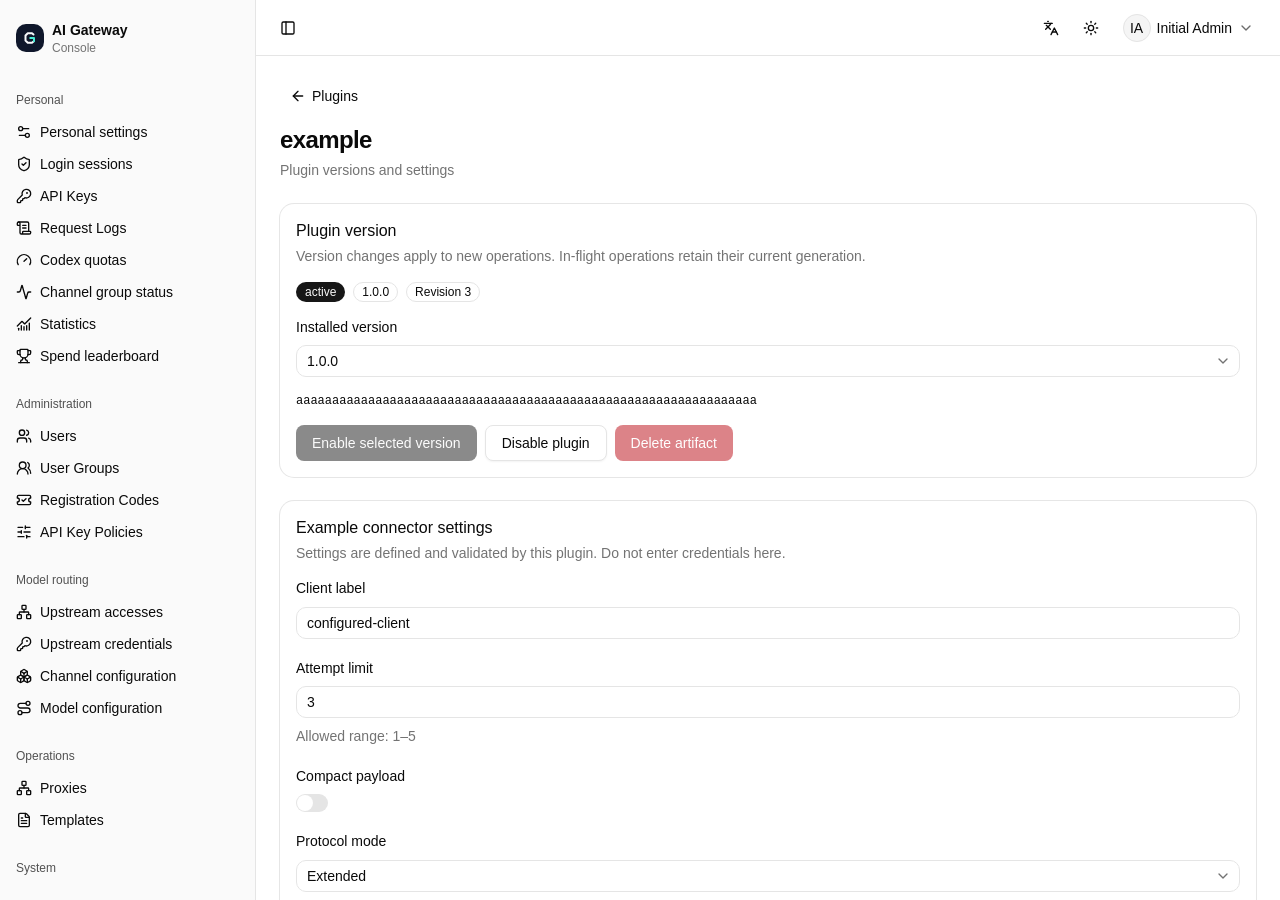
Test: Plugin management › renders a non-provider-specific descriptor and preserves seeded boolean and enum values
Check: the number field labelled "Attempt limit" holds "3", box [296, 686, 1240, 718]
Check: the switch named "Compact payload" is not checked, box [296, 794, 328, 812]
Replace the text in the field labelled "Client label" with "new-client": (768, 622) [296, 606, 1240, 638]
(page scrolled)
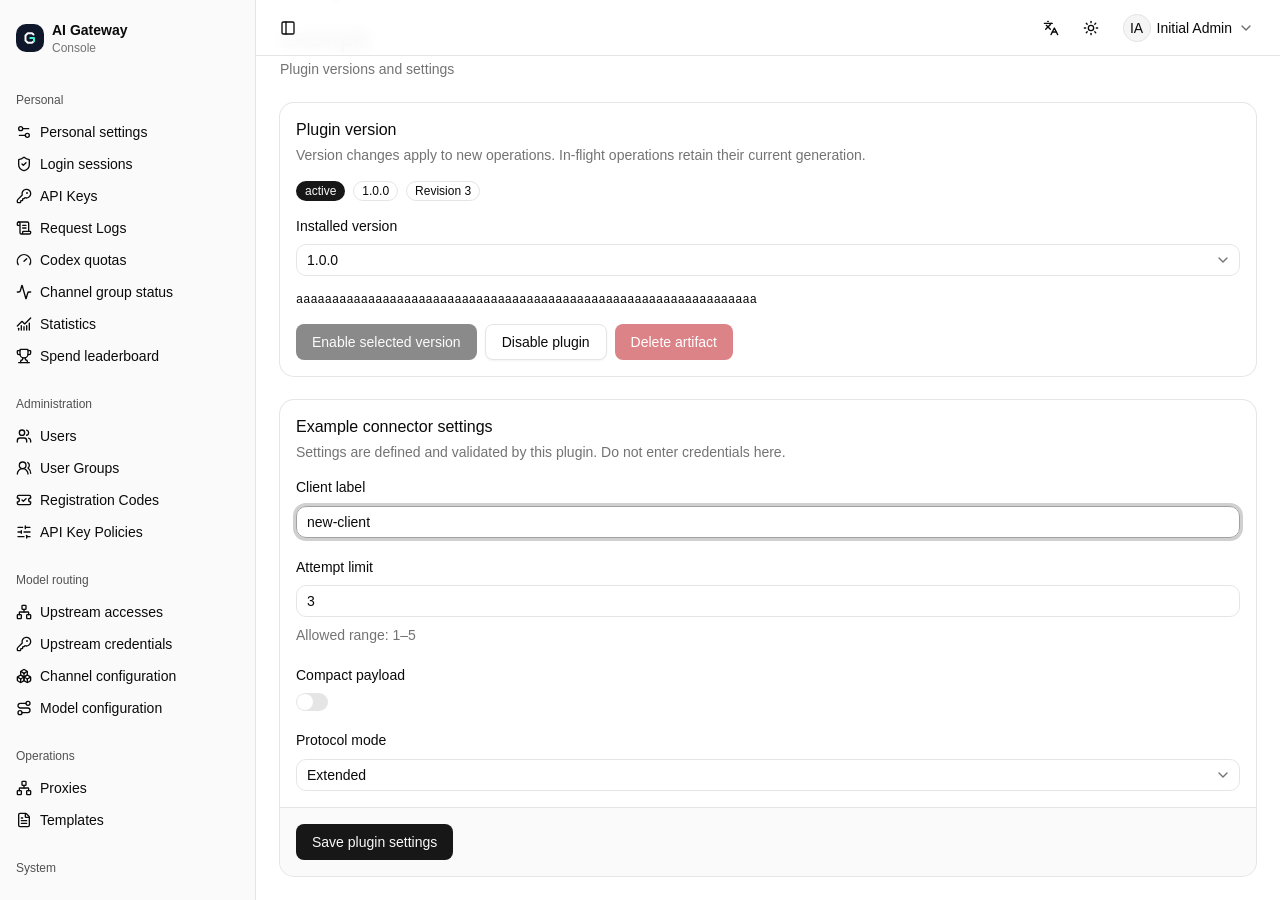
Click the button "Save plugin settings": (375, 842) [296, 824, 453, 860]
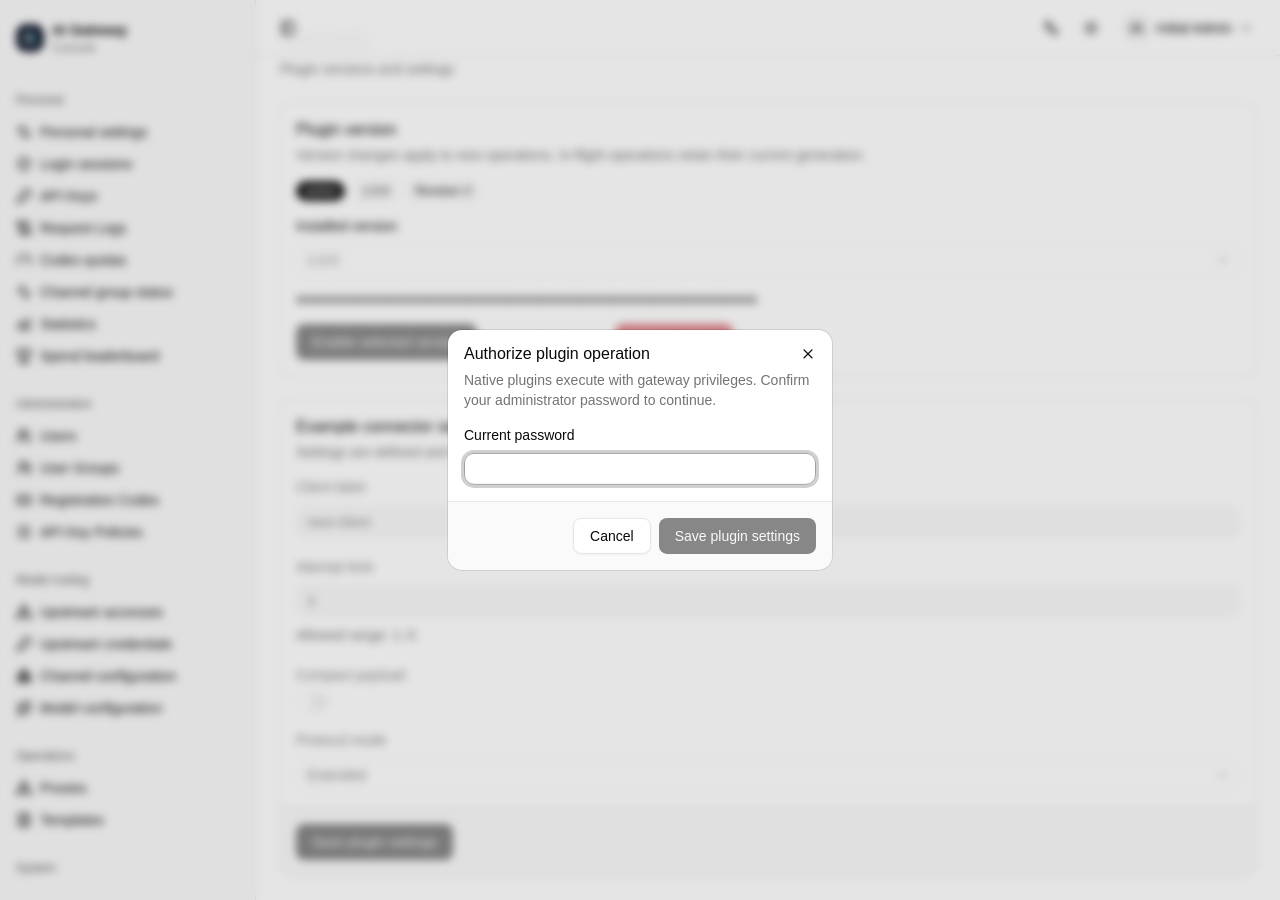
In the password field labelled "Current password": (640, 469) [464, 453, 816, 485], type "administrator-password"
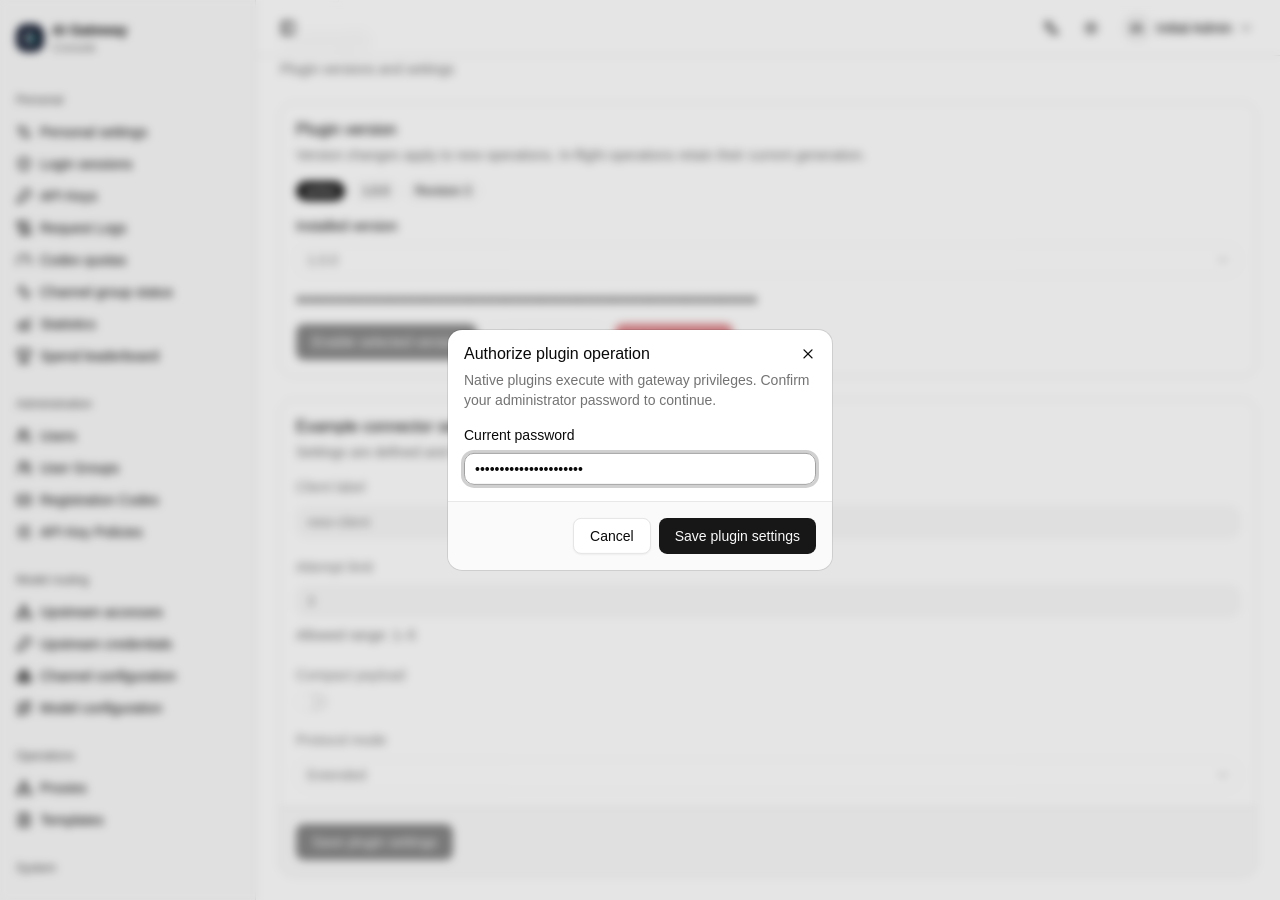
Click the button "Save plugin settings": (737, 536) [659, 518, 816, 554]
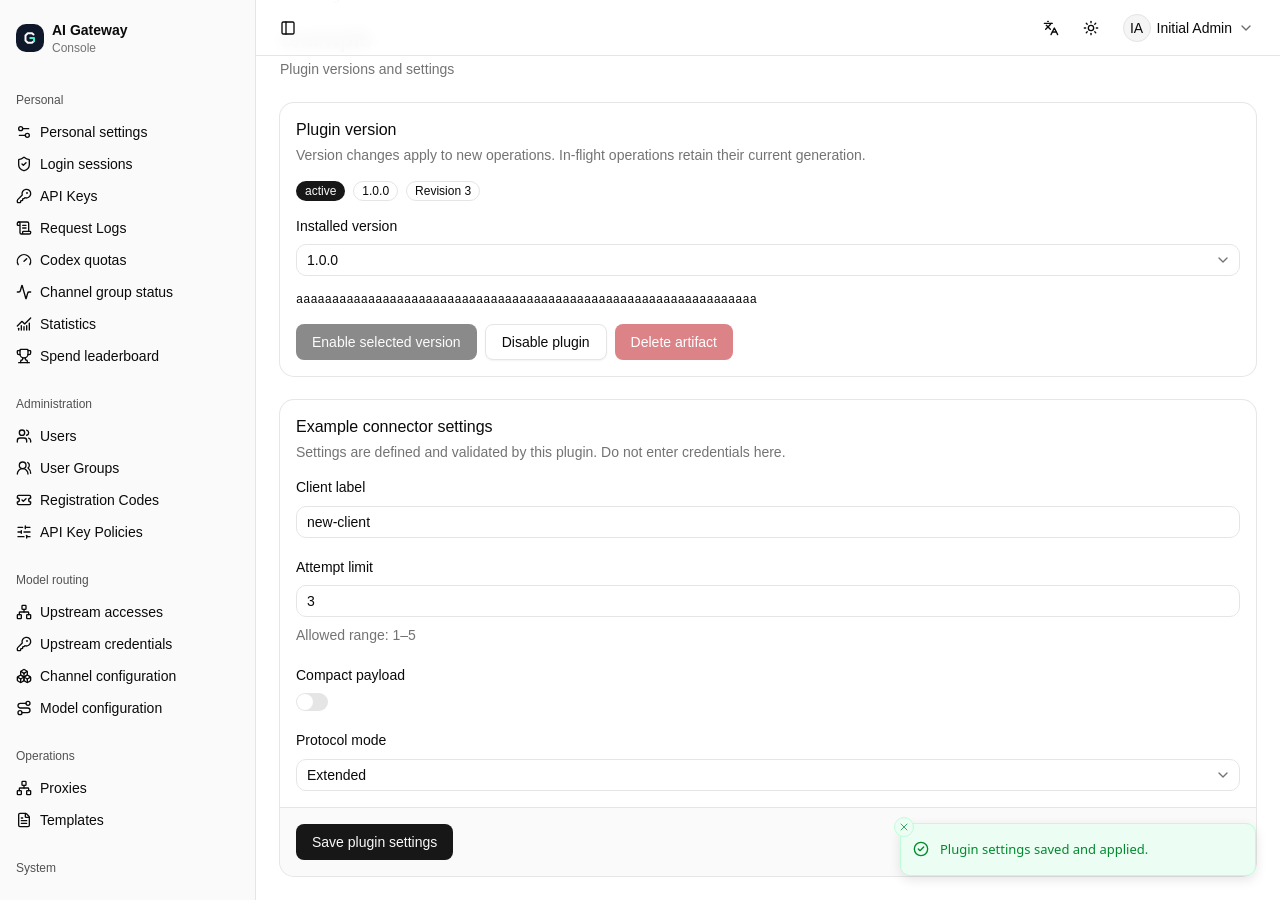
Check: the text "Plugin settings saved and applied." is shown, box [940, 840, 1148, 859]
